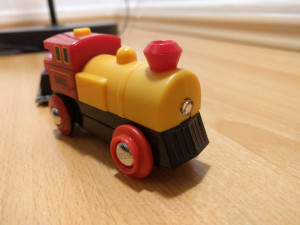brio: (39, 23, 212, 185)
